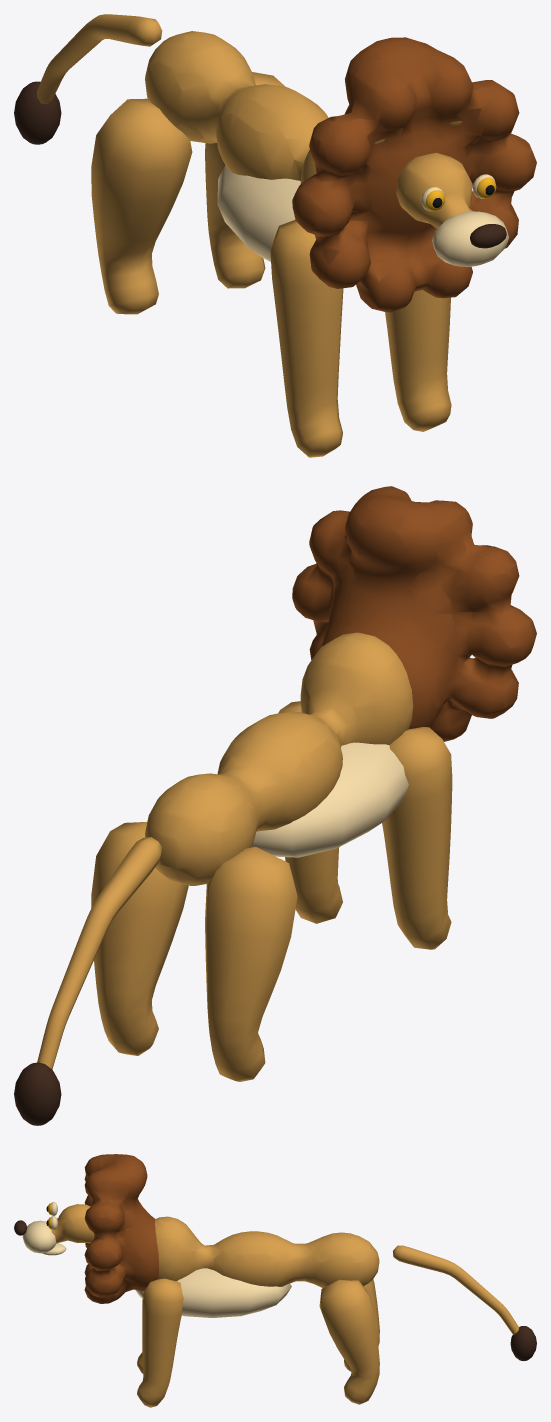
The model's file is lion.glb.
3 renders of one model, top to bottom at view 1: azimuth 30°, elevation 25°; view 2: azimuth 150°, elevation 25°; view 3: azimuth 270°, elevation 25°, orthographic. The views are drawn at different scales.
Parts seen in each view (by area): view 1: Mane, Body, LegBR, LegFR, LegFL, Sphere, LegBL, Tail, Sphere.001, Sphere.012, Sphere.002; view 2: Mane, Body, LegBR, LegBL, LegFR, Sphere, Tail, LegFL, Sphere.012; view 3: Body, Mane, LegBL, LegFL, Sphere, Tail, Sphere.001, Sphere.012, LegBR.
Boxes of the visible parts, x1,y1,x2,y2 form: Mane: (292, 37, 536, 312); Body: (145, 31, 472, 228); LegBR: (91, 98, 192, 314); LegFR: (270, 219, 343, 457); LegFL: (385, 289, 451, 431); Sphere: (217, 165, 300, 261); LegBL: (205, 72, 285, 288); Tail: (37, 14, 162, 103); Sphere.001: (432, 211, 509, 266); Sphere.012: (14, 81, 61, 144); Sphere.002: (470, 224, 506, 248); Mane: (292, 486, 536, 741); Body: (145, 632, 413, 885); LegBR: (205, 847, 297, 1081); LegBL: (91, 822, 188, 1055); LegFR: (382, 727, 452, 949); Sphere: (251, 742, 408, 857); Tail: (37, 837, 162, 1069); LegFL: (278, 701, 342, 923); Sphere.012: (14, 1062, 61, 1125); Body: (50, 1204, 379, 1287); Mane: (84, 1154, 158, 1303); LegBL: (319, 1279, 379, 1404); LegFL: (137, 1278, 183, 1407); Sphere: (135, 1268, 291, 1317); Tail: (393, 1245, 519, 1334); Sphere.001: (22, 1220, 55, 1253); Sphere.012: (510, 1326, 536, 1360); LegBR: (322, 1279, 379, 1371).
Bounding box in the file's own units: 0.9139 × 1.55 × 3.16.
